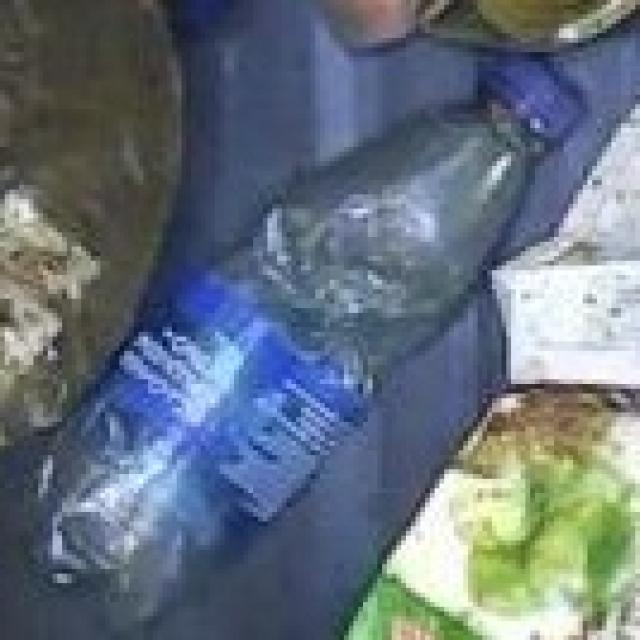plasticbottle: (21, 40, 588, 640)
